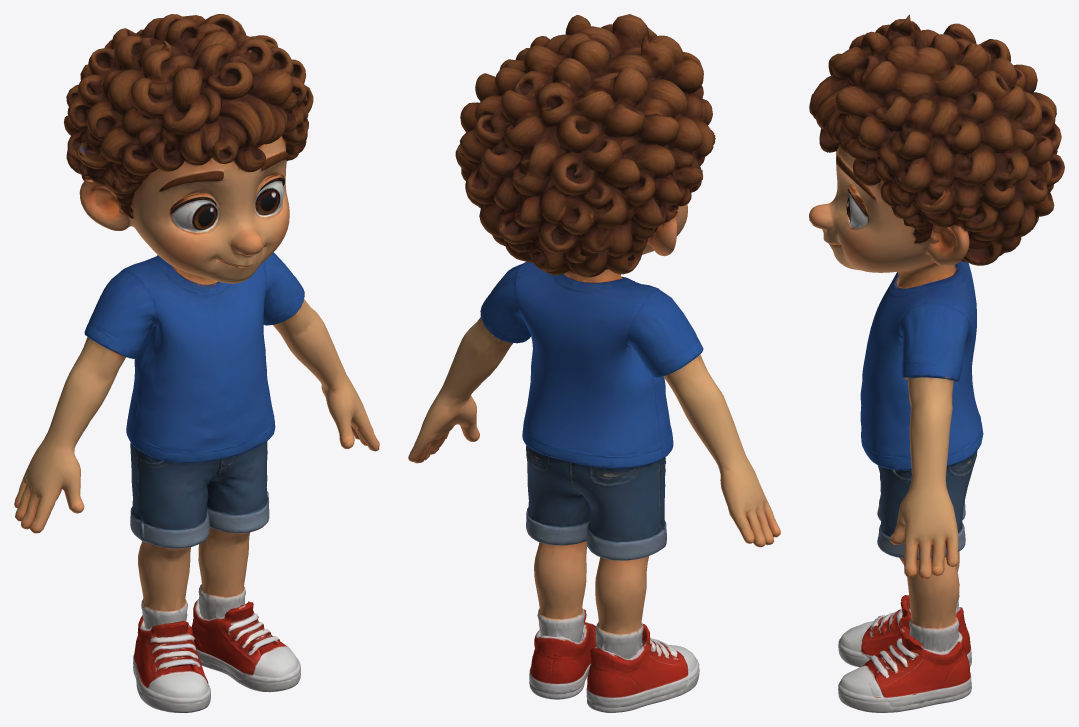
Rendered from avatar-tee-shorts.glb.
3 renders of one model, left to right at view 1: azimuth 30°, elevation 25°; view 2: azimuth 150°, elevation 25°; view 3: azimuth 270°, elevation 25°, orthographic. The views are drawn at different scales.
Parts seen in each view (by area): view 1: avatar-tee-shorts-mesh; view 2: avatar-tee-shorts-mesh; view 3: avatar-tee-shorts-mesh.
Boxes of the visible parts, bbox=[...] form: avatar-tee-shorts-mesh: bbox=[14, 14, 379, 712]; avatar-tee-shorts-mesh: bbox=[408, 14, 780, 712]; avatar-tee-shorts-mesh: bbox=[809, 14, 1064, 712].
Size of the model in its own units: 0.8519 by 1.5 by 0.5407.
Materials: 1 (1 with a texture image).
